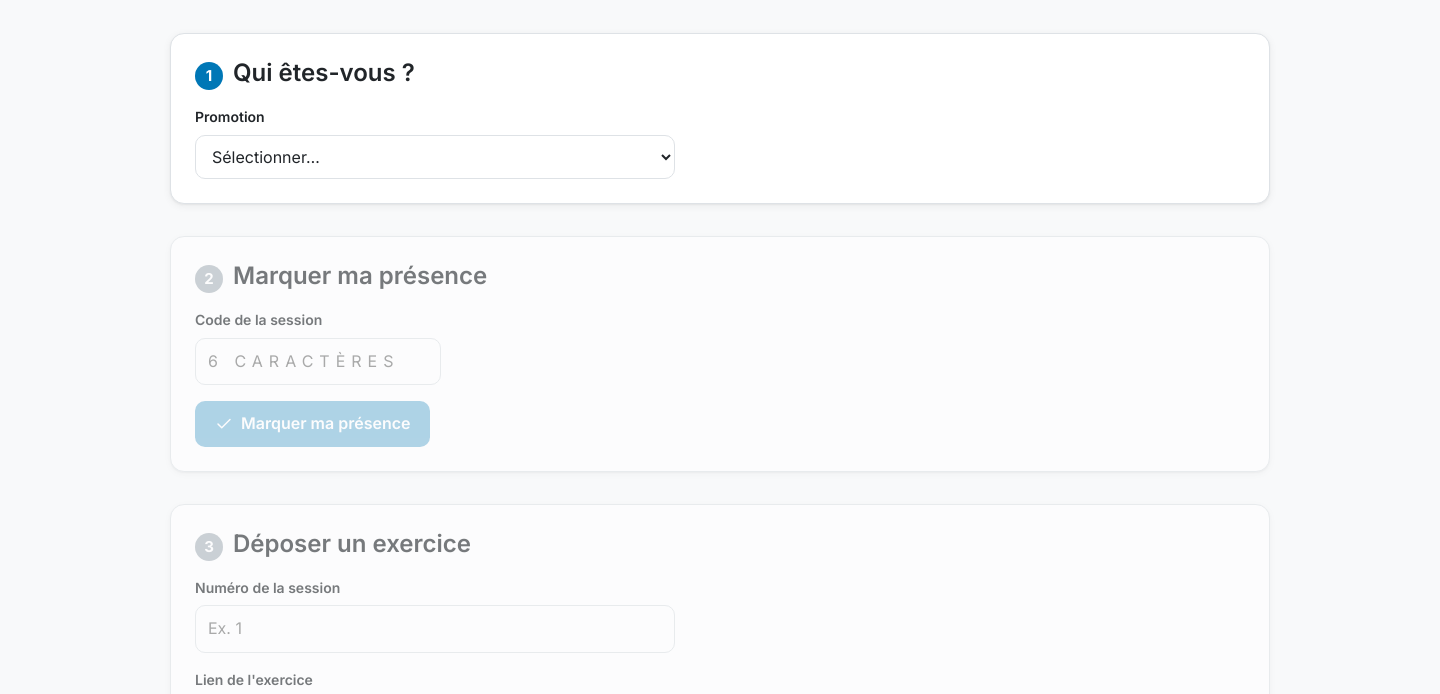
EtudiantPage › affiche les exercices et notes sans jamais mentionner le relecteur (RG7)
Step 1. Select "L3 GL" in the dropdown labelled "Promotion" → (435, 157), box x1=195 y1=135 x2=675 y2=179
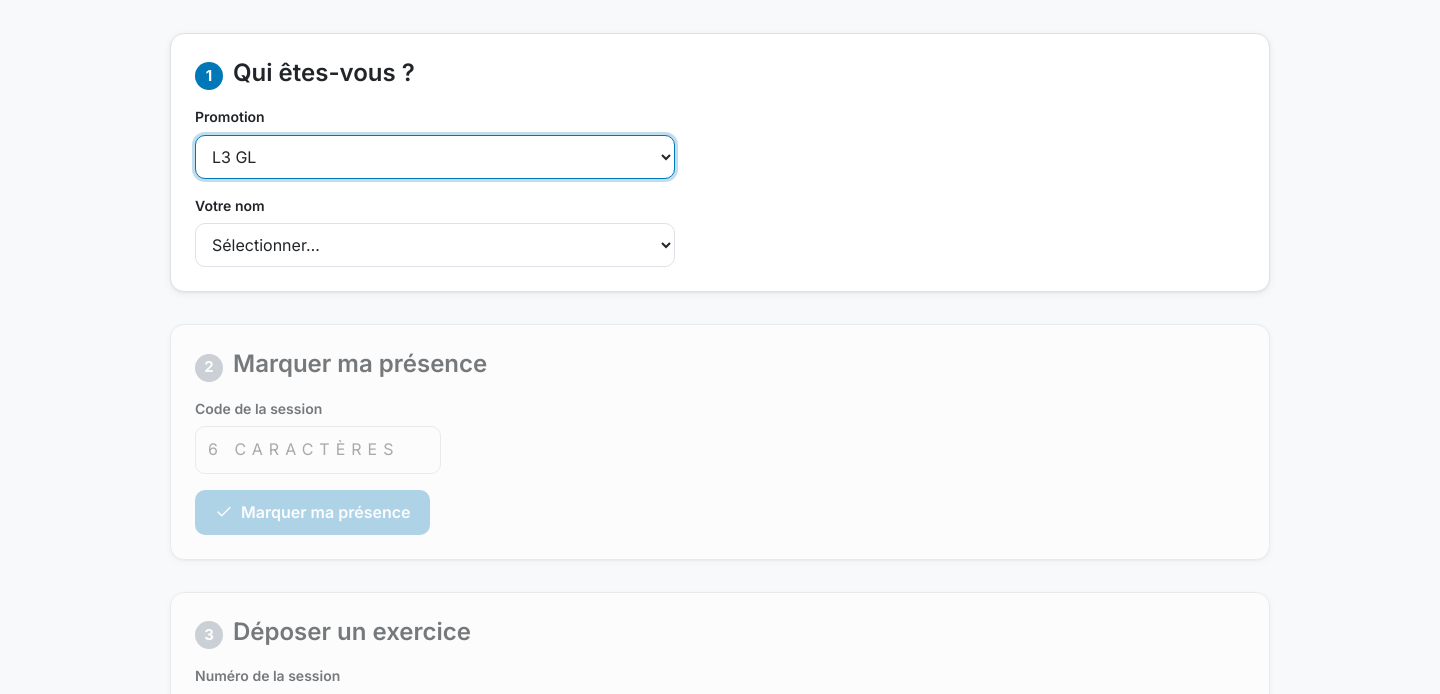
Step 2. Select "Alice" in the dropdown labelled "Votre nom" → (435, 245), box x1=195 y1=223 x2=675 y2=267
(page scrolled)
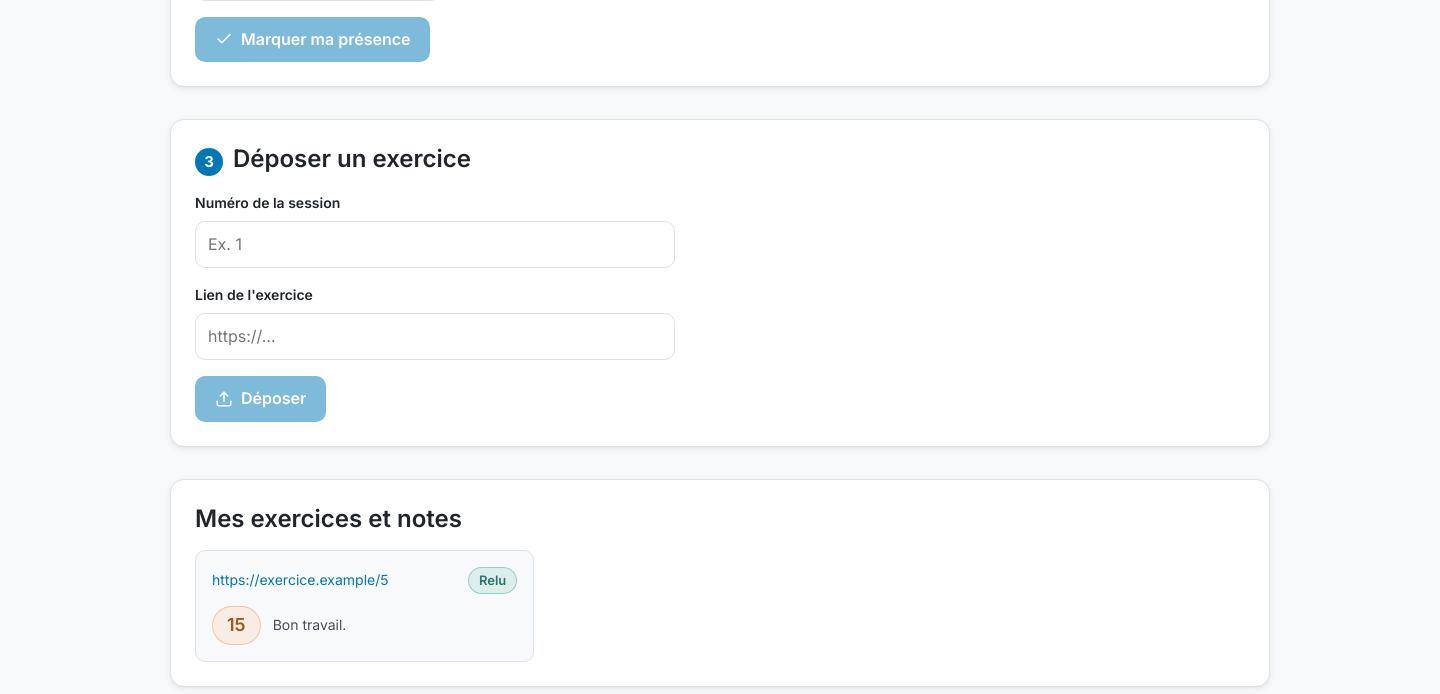
Result: the text "Bon travail." is shown at x1=273 y1=614 x2=346 y2=636
Result: the text "Relu" is shown at x1=468 y1=567 x2=517 y2=594
